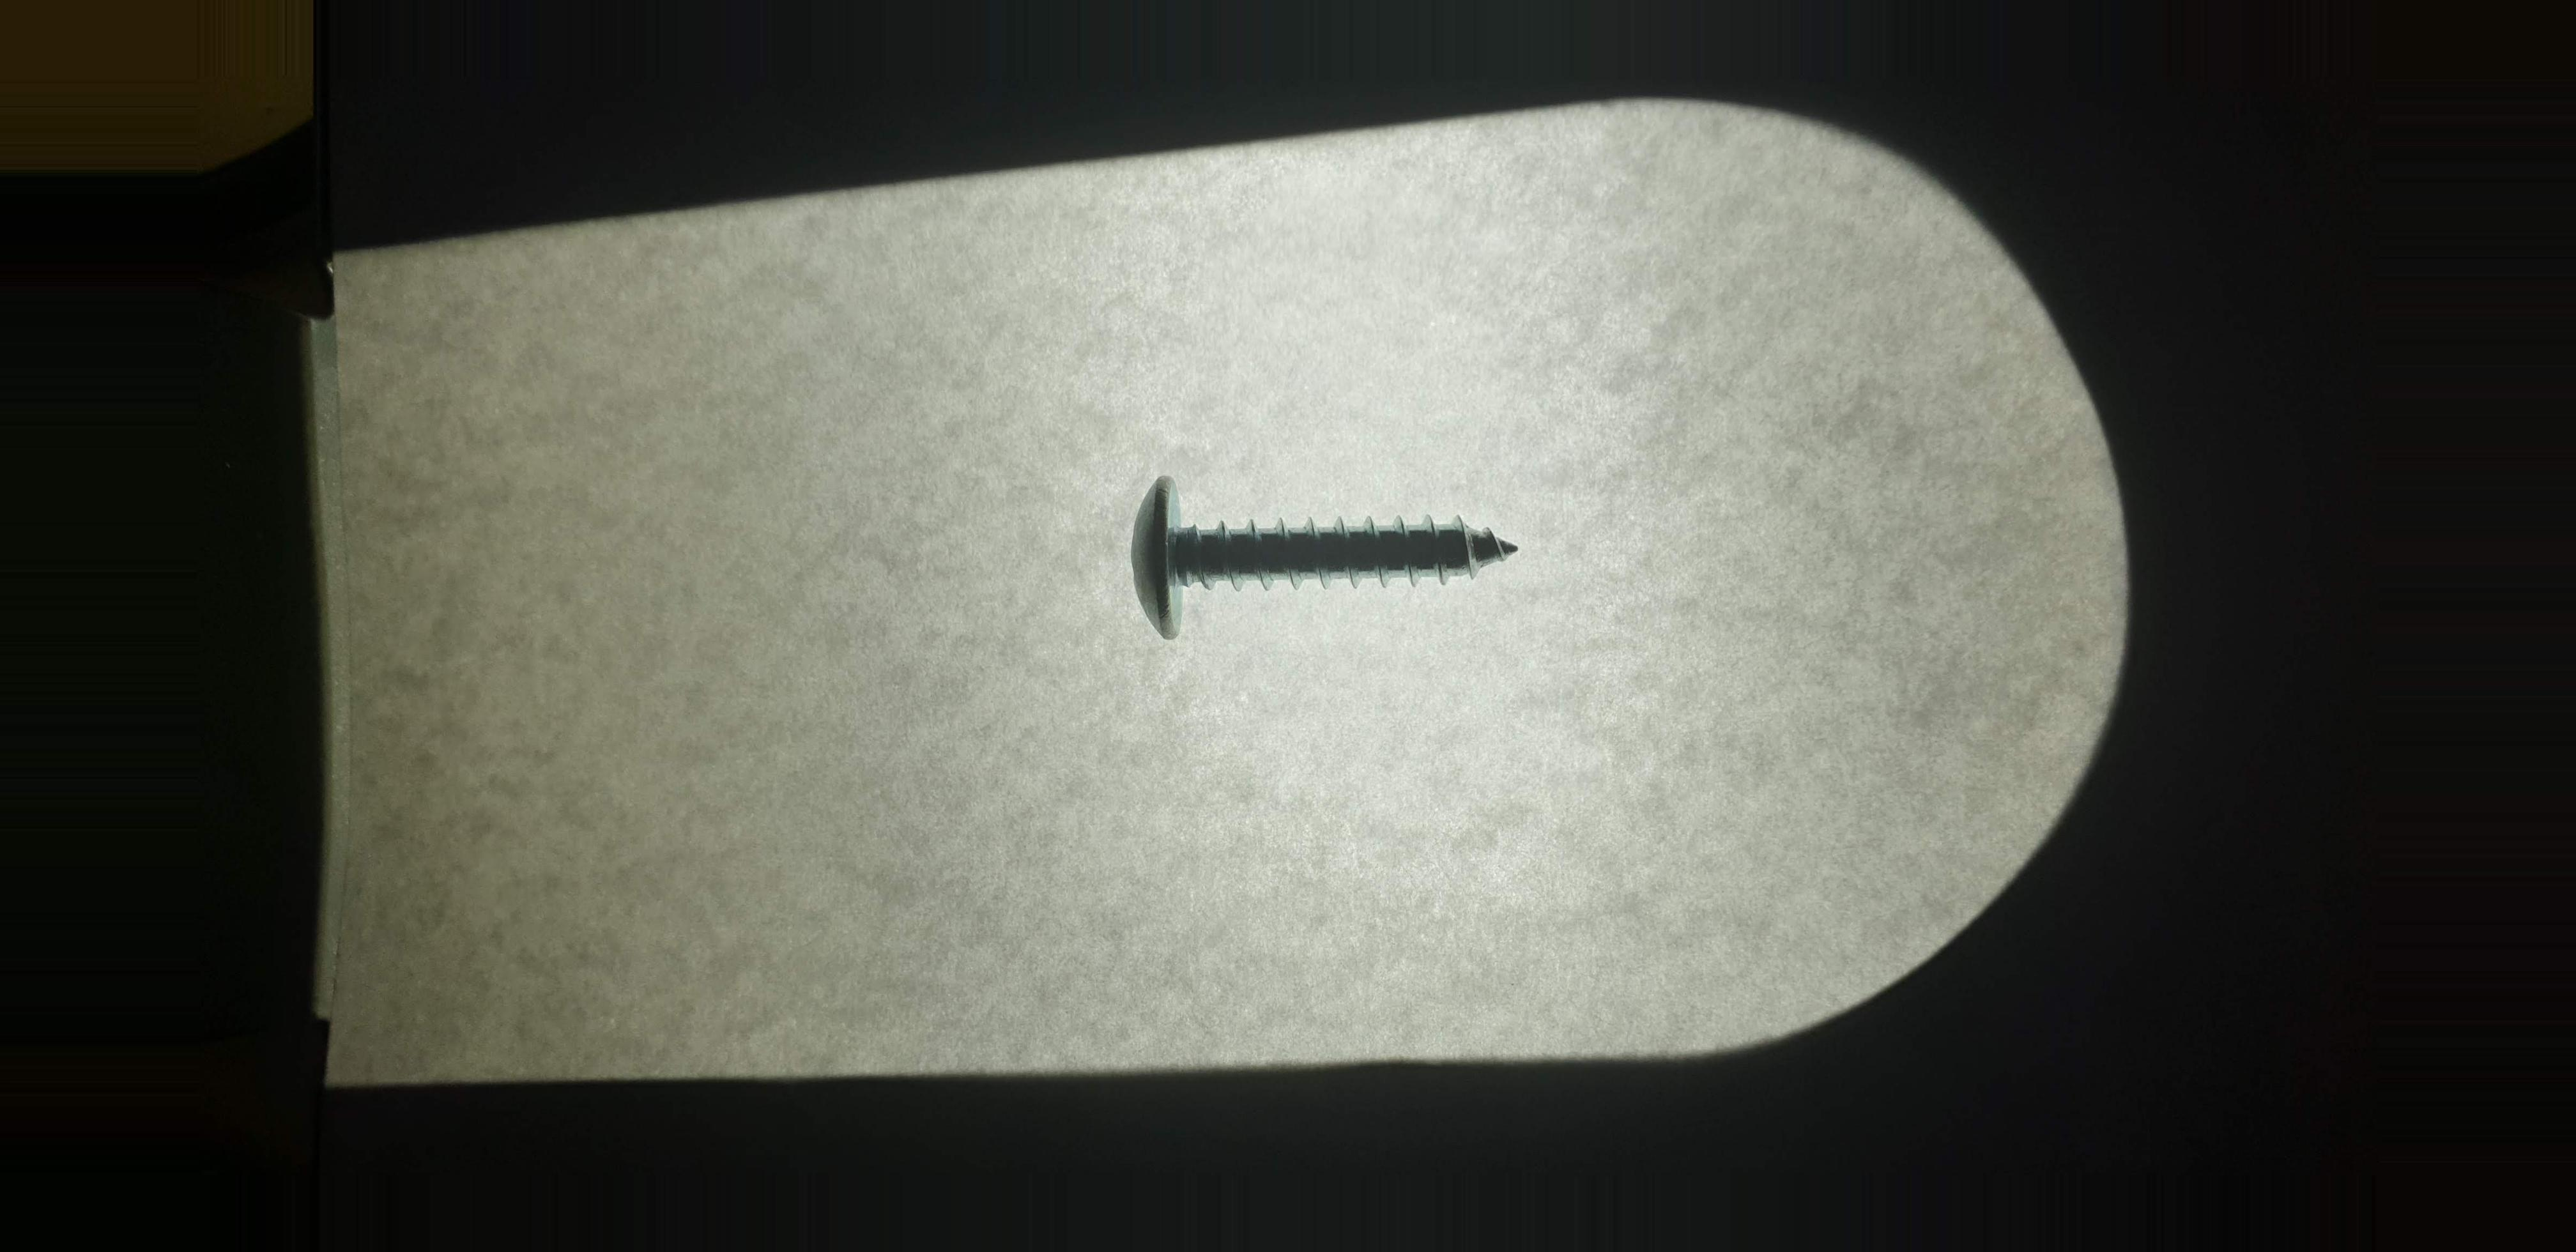S002: (1084, 445, 1559, 665)
